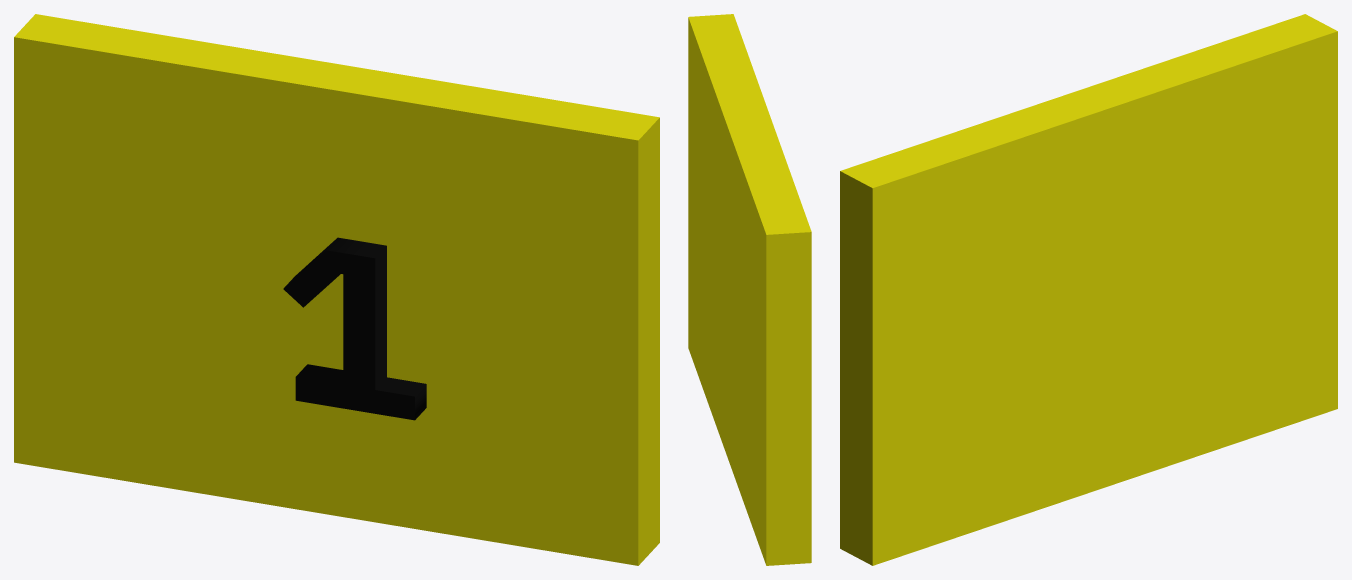
File: tagyell1_3.glb
3 views of the same model, side by side, from view 1: azimuth 30°, elevation 25°; view 2: azimuth 150°, elevation 25°; view 3: azimuth 270°, elevation 25° (orthographic). The views are drawn at different scales.
Parts seen in each view (by area): view 1: Plane.022, Text.022; view 2: Plane.022; view 3: Plane.022.
Boxes of the visible parts, box(x1,y1,x2,y2) form: Plane.022: box(14, 14, 659, 565); Text.022: box(283, 237, 426, 420); Plane.022: box(688, 14, 811, 565); Plane.022: box(840, 14, 1337, 565).
Size of the model in its own units: 0.1385 by 0.14 by 0.1672.
